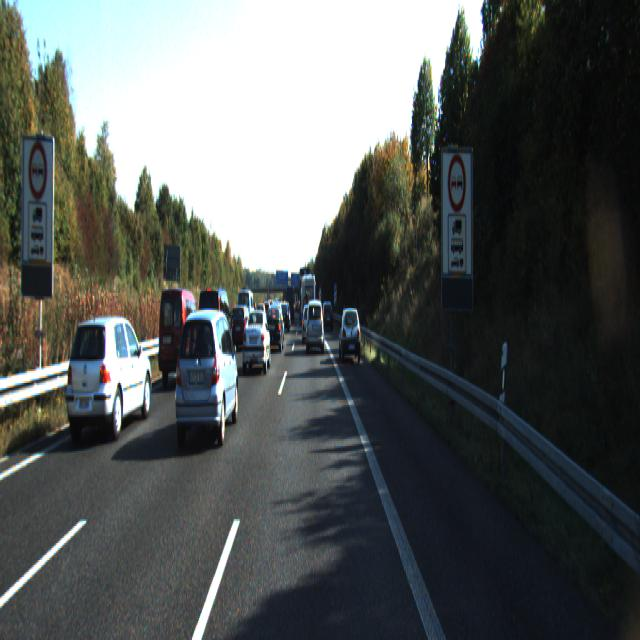Car: (64, 312, 154, 444), (172, 306, 240, 451), (156, 288, 199, 390), (195, 290, 233, 369), (242, 308, 271, 373), (338, 306, 361, 362), (228, 304, 251, 351), (306, 299, 324, 355), (236, 293, 255, 344), (266, 306, 284, 352), (321, 301, 333, 330), (279, 303, 290, 334)
